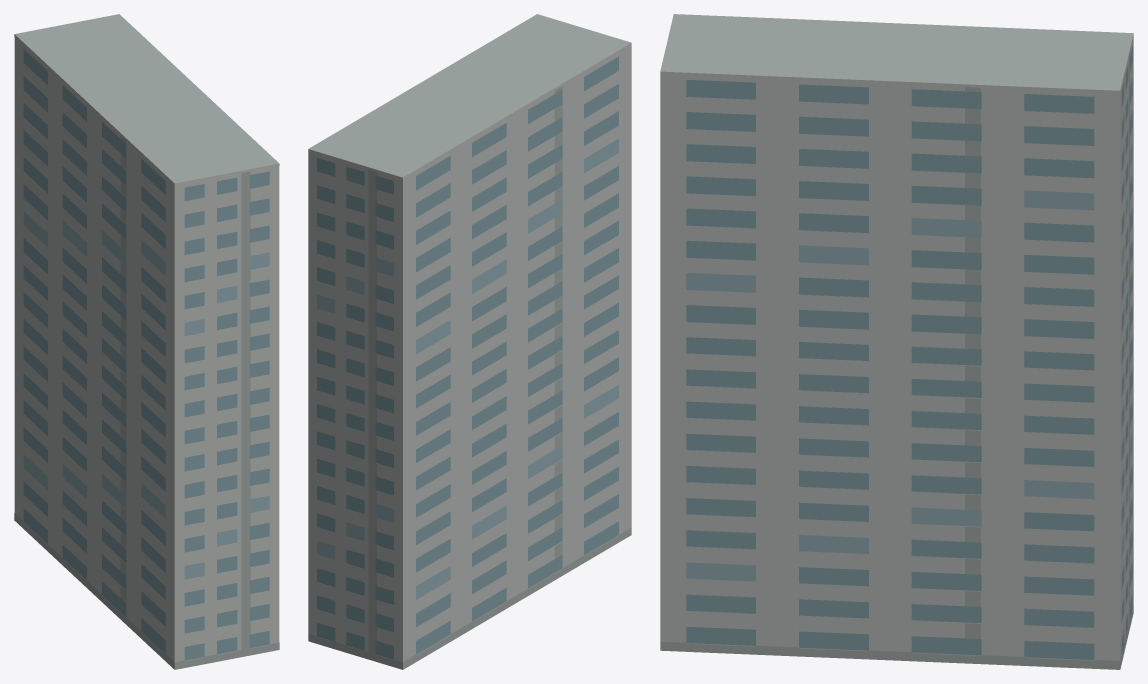
Rendered from residential-5c052754-a229-4360-a16a-a5ebbff5137e.glb.
3 views of the same model, side by side, from view 1: azimuth 30°, elevation 25°; view 2: azimuth 150°, elevation 25°; view 3: azimuth 270°, elevation 25° (orthographic). The views are drawn at different scales.
Parts seen in each view (by area): view 1: residential-5c052754-a229-4360-a16a-a5ebbff5137e.tmp; view 2: residential-5c052754-a229-4360-a16a-a5ebbff5137e.tmp; view 3: residential-5c052754-a229-4360-a16a-a5ebbff5137e.tmp.
Boxes of the visible parts, <box> form: residential-5c052754-a229-4360-a16a-a5ebbff5137e.tmp: <box>14,14,279,669</box>; residential-5c052754-a229-4360-a16a-a5ebbff5137e.tmp: <box>308,14,631,669</box>; residential-5c052754-a229-4360-a16a-a5ebbff5137e.tmp: <box>660,14,1133,669</box>.
Bounding box in the file's own units: 13.66 × 48 × 35.58.
